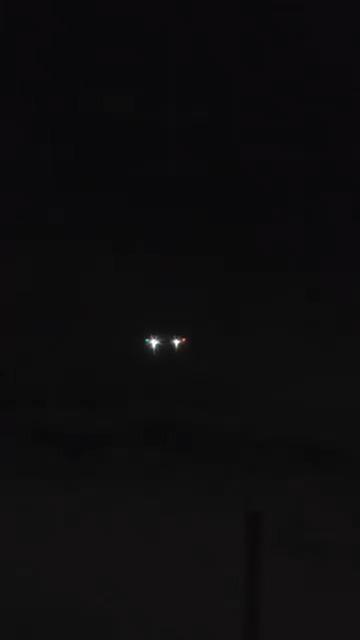Plane: (123, 297, 206, 382)
